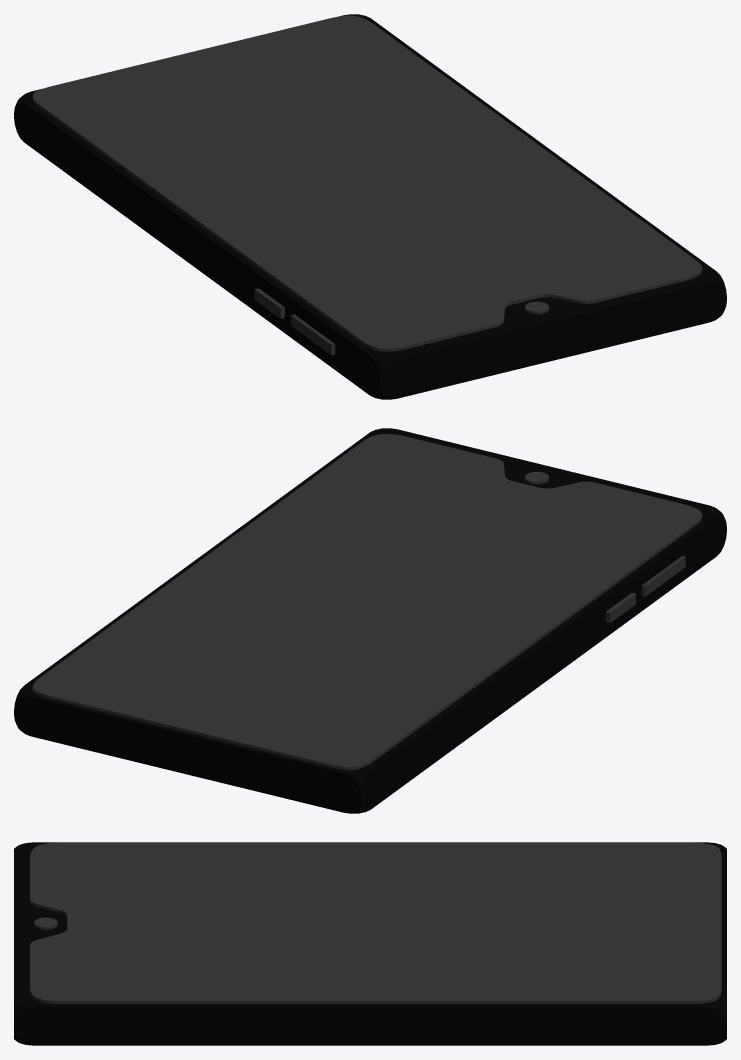
File: celular.glb
3 renders of one model, top to bottom at view 1: azimuth 30°, elevation 25°; view 2: azimuth 150°, elevation 25°; view 3: azimuth 270°, elevation 25°, orthographic. The views are drawn at different scales.
Visible parts, largest first — view 1: Cube.001, Cube, Cube.002; view 2: Cube.001, Cube, Cube.002; view 3: Cube.001, Cube.
Part boxes in pixels (x1,y1,x2,y2): Cube.001: (32, 15, 702, 351); Cube: (14, 14, 726, 399); Cube.002: (291, 314, 335, 355); Cube.001: (32, 434, 702, 770); Cube: (14, 428, 726, 813); Cube.002: (641, 556, 685, 596); Cube.001: (30, 842, 721, 1003); Cube: (14, 842, 726, 1045).
Size of the model in its own units: 2.02 by 0.2919 by 3.65.
Materials: 5 (5 with a texture image).
